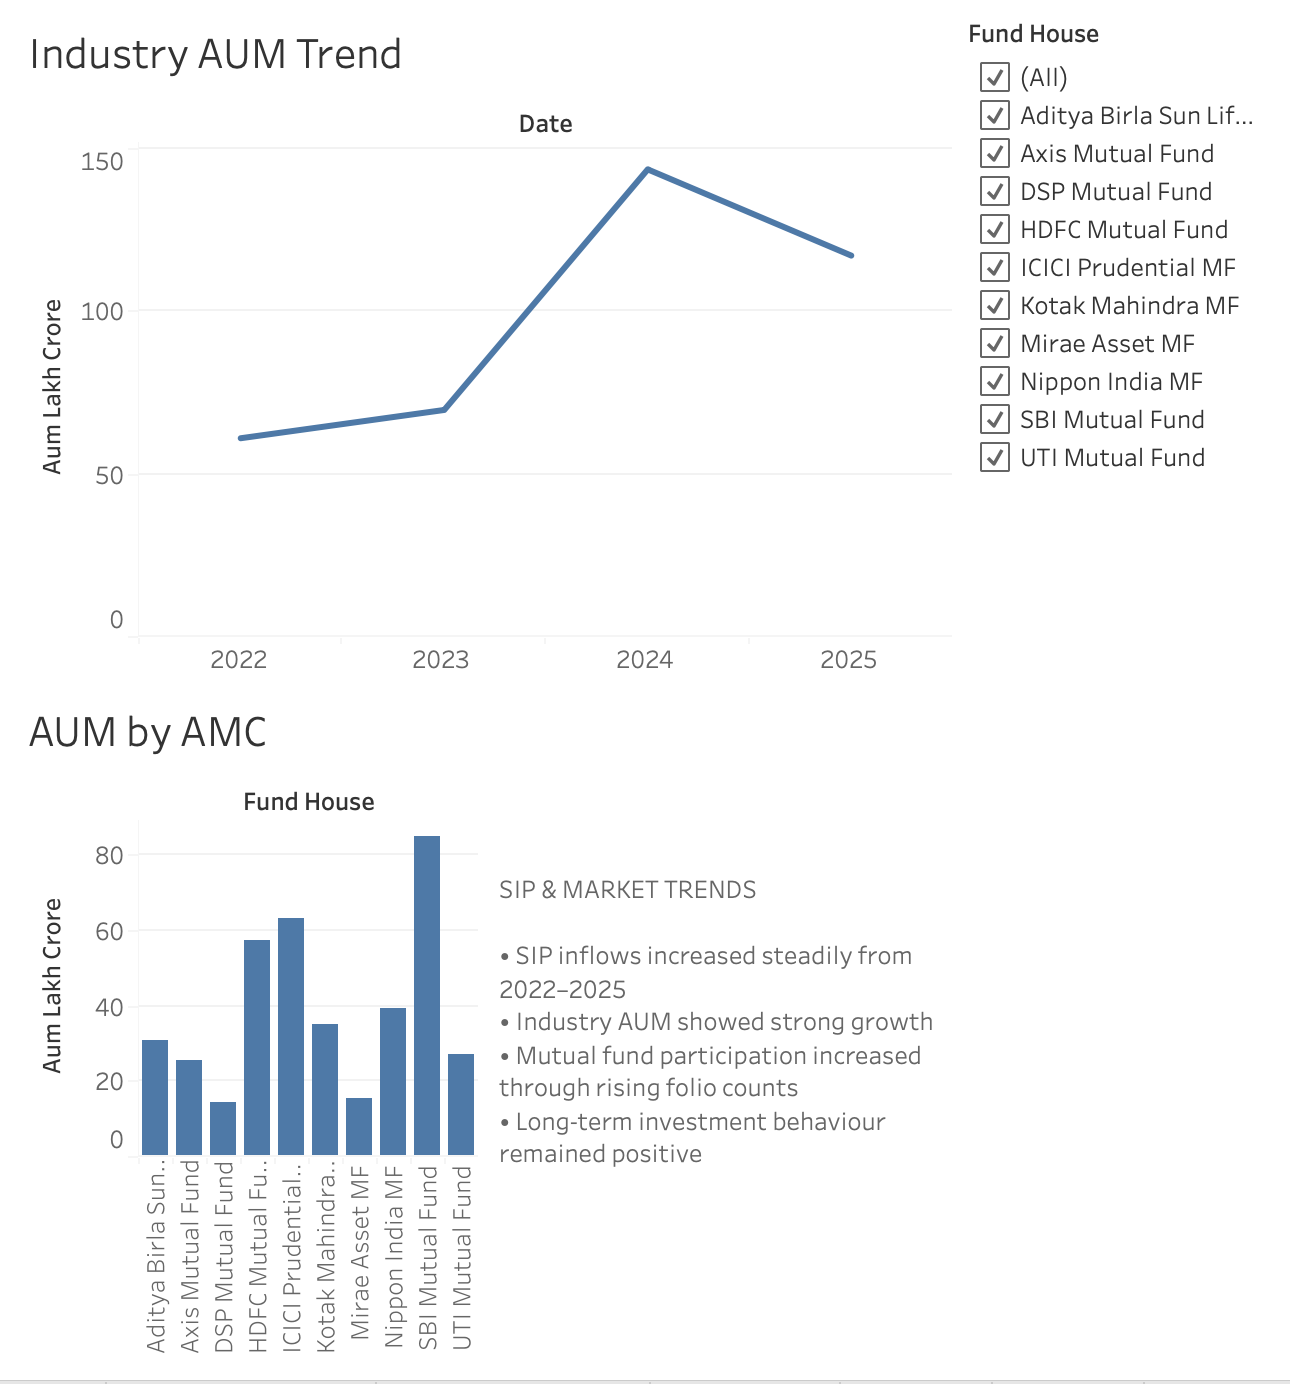

Layout of this report page (visuals, bound fields, positions):
{"tool":"tableau","page":{"name":"SIP & Market Trends","canvas":[650,860],"ordinal":3},"visuals":[{"type":"worksheet","title":"Industry AUM Trend","mark":"Automatic","rows":["aum_lakh_crore"],"cols":["date"],"box":[8,9.9,474,420.1]},{"type":"filter","title":"AUM by AMC","param":"[federated.09z8w6i11hp4gm1472own025srxp].[none:fund_house:nk]","box":[482,9.9,160,299.5]},{"type":"worksheet","title":"AUM by AMC","mark":"Automatic","rows":["aum_lakh_crore"],"cols":["fund_house"],"box":[8,430,237,420.1]},{"type":"text","box":[245,430,237,420.1]}]}

Visuals, with their boxes on the page's 650x860 design canvas (x1, y1, x2, y2). These are canvas units, not pixel positions in the 1290x1384 screenshot, which may show the page scaled, cropped or inside an application window:
"Industry AUM Trend" worksheet: [left=8, top=10, right=482, bottom=430]
"AUM by AMC" filter: [left=482, top=10, right=642, bottom=309]
"AUM by AMC" worksheet: [left=8, top=430, right=245, bottom=850]
text: [left=245, top=430, right=482, bottom=850]
